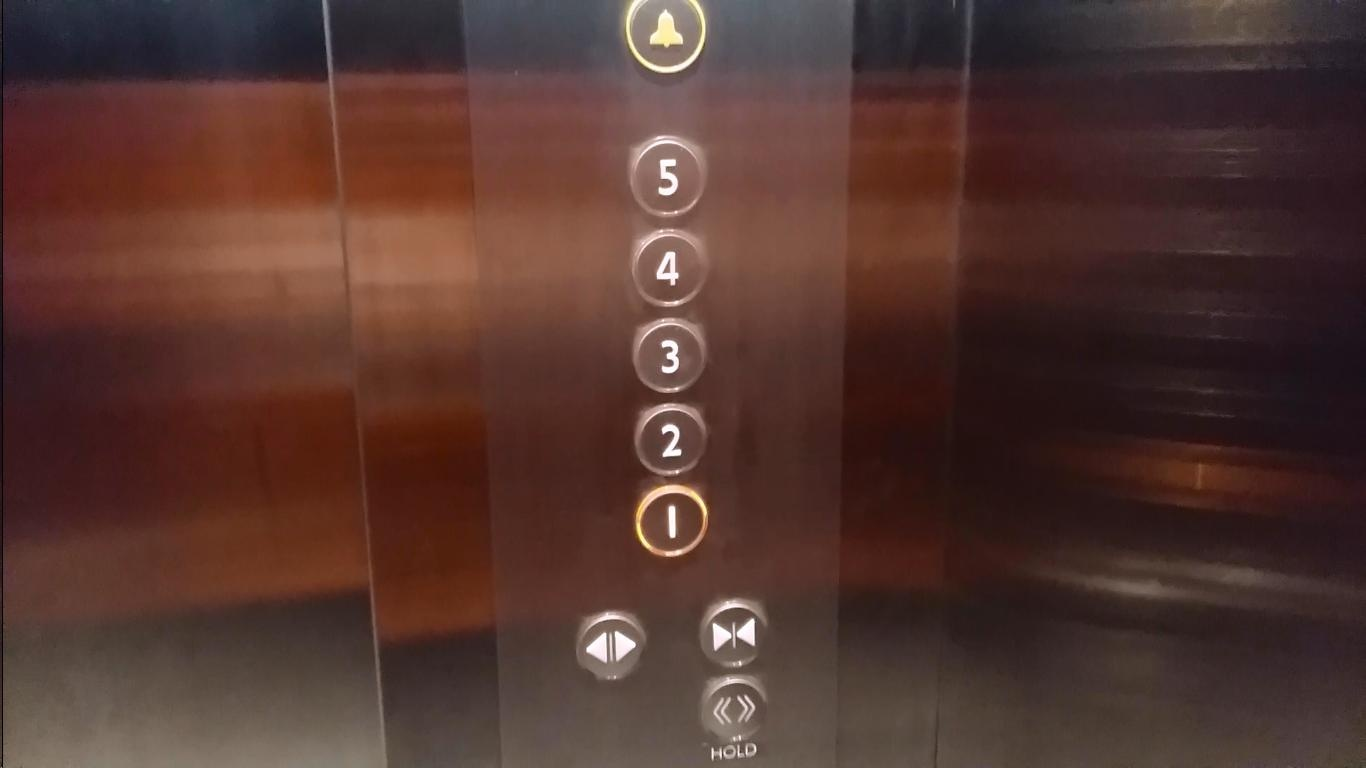1: (632, 482, 711, 562)
2: (629, 400, 712, 476)
3: (627, 316, 711, 397)
4: (626, 227, 712, 312)
5: (622, 132, 710, 223)
alarm: (623, 1, 709, 79)
close: (696, 595, 770, 672)
open: (572, 606, 650, 685), (696, 676, 772, 745)
